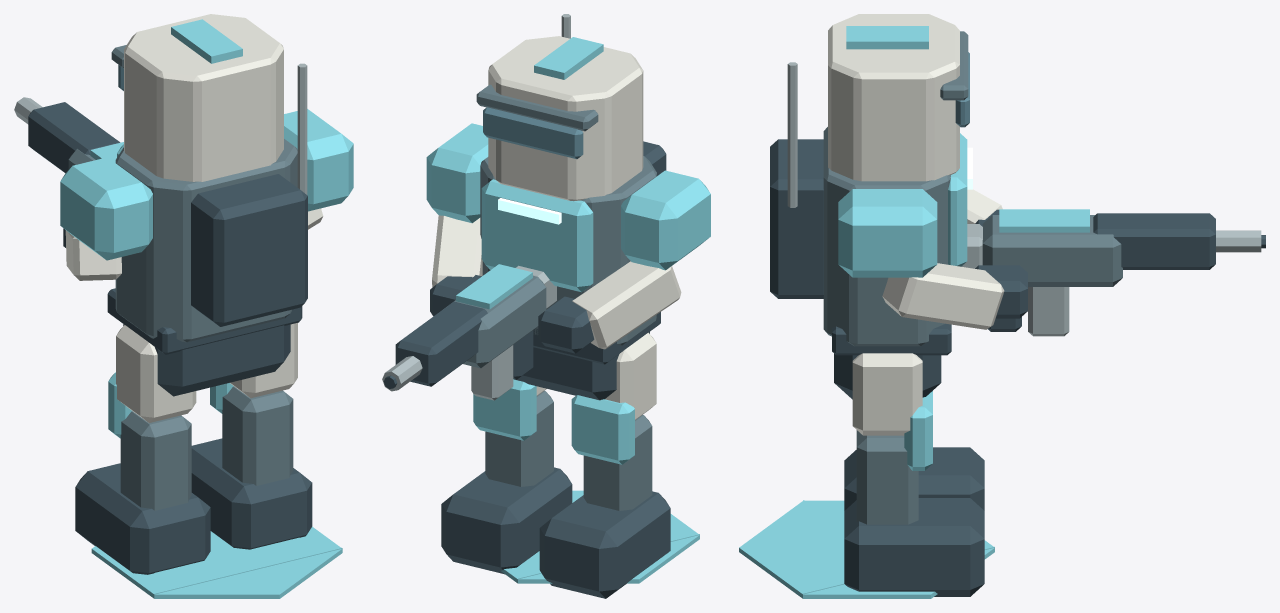
Rendered from fighter-carbine.glb.
3 renders of one model, left to right at view 1: azimuth 30°, elevation 25°; view 2: azimuth 150°, elevation 25°; view 3: azimuth 270°, elevation 25°, orthographic. The views are drawn at different scales.
Visible parts, largest first — view 1: asset_fighter-carbine__FP_Ivory, asset_fighter-carbine__FP_Dark, asset_fighter-carbine__FP_Team, asset_fighter-carbine__FP_Armour, boot, boot.001, shin.001, shin, Hexagon, Triangle, thigh, weapon__FP_Dark (+3 smaller); view 2: asset_fighter-carbine__FP_Ivory, asset_fighter-carbine__FP_Team, boot, boot.001, asset_fighter-carbine__FP_Dark, asset_fighter-carbine__FP_Armour, weapon__FP_Dark, shin, shin.001, knee, receiver, visor (+7 smaller); view 3: asset_fighter-carbine__FP_Ivory, asset_fighter-carbine__FP_Dark, asset_fighter-carbine__FP_Team, boot.001, asset_fighter-carbine__FP_Armour, receiver, weapon__FP_Dark, thigh.001, shin.001, Hexagon, weapon__FP_Steel, boot (+4 smaller).
Part boxes in pixels (x1,y1,x2,y2): asset_fighter-carbine__FP_Ivory: (65,14,323,280); asset_fighter-carbine__FP_Dark: (63,174,307,396); asset_fighter-carbine__FP_Team: (60,19,353,260); asset_fighter-carbine__FP_Armour: (111,45,297,342); boot: (75,463,210,574); boot.001: (191,438,312,549); shin.001: (222,386,293,485); shin: (120,411,191,510); Hexagon: (91,526,342,598); Triangle: (154,531,342,594); thigh: (116,325,196,422); weapon__FP_Dark: (28,102,119,172); asset_fighter-carbine__FP_Ivory: (432,36,681,349); asset_fighter-carbine__FP_Team: (426,37,710,292); boot: (539,491,670,598); boot.001: (441,467,572,574); asset_fighter-carbine__FP_Dark: (430,141,666,400); asset_fighter-carbine__FP_Armour: (476,84,656,345); weapon__FP_Dark: (383,301,533,388); shin: (583,415,652,510); shin.001: (485,391,553,486); knee: (571,395,634,464); receiver: (454,275,546,368); visor: (483,107,583,159); asset_fighter-carbine__FP_Ivory: (828,14,1004,329); asset_fighter-carbine__FP_Dark: (770,139,1027,399); asset_fighter-carbine__FP_Team: (838,26,967,277); boot.001: (844,498,984,596); asset_fighter-carbine__FP_Armour: (823,31,968,346); receiver: (982,215,1122,286); weapon__FP_Dark: (988,213,1265,331); thigh.001: (852,353,922,435); shin.001: (856,430,918,524); Hexagon: (739,500,994,598); weapon__FP_Steel: (961,224,1261,336); boot: (844,447,984,510).
Size of the model in its own units: 0.74 by 1.4 by 1.28.
